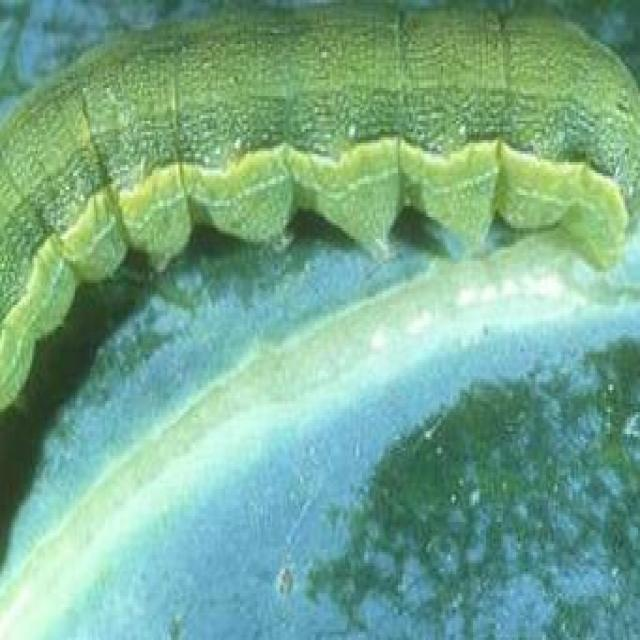BeetArmyWorm-Larva-: (1, 1, 638, 434)
